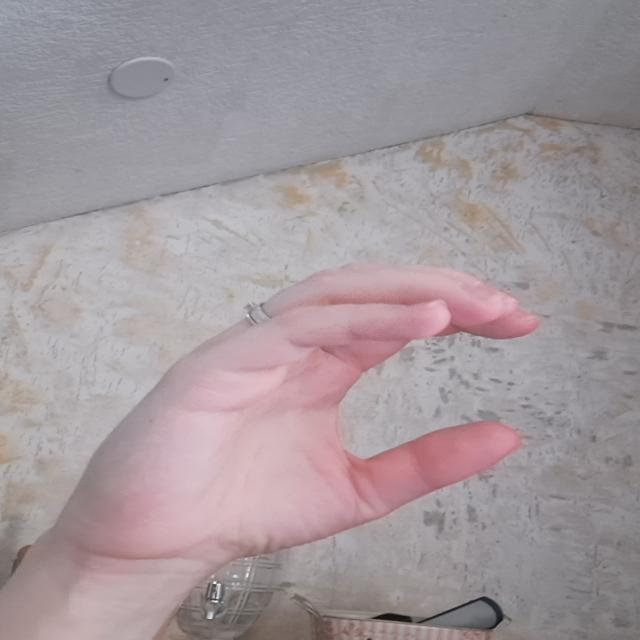C: (52, 253, 565, 561)
